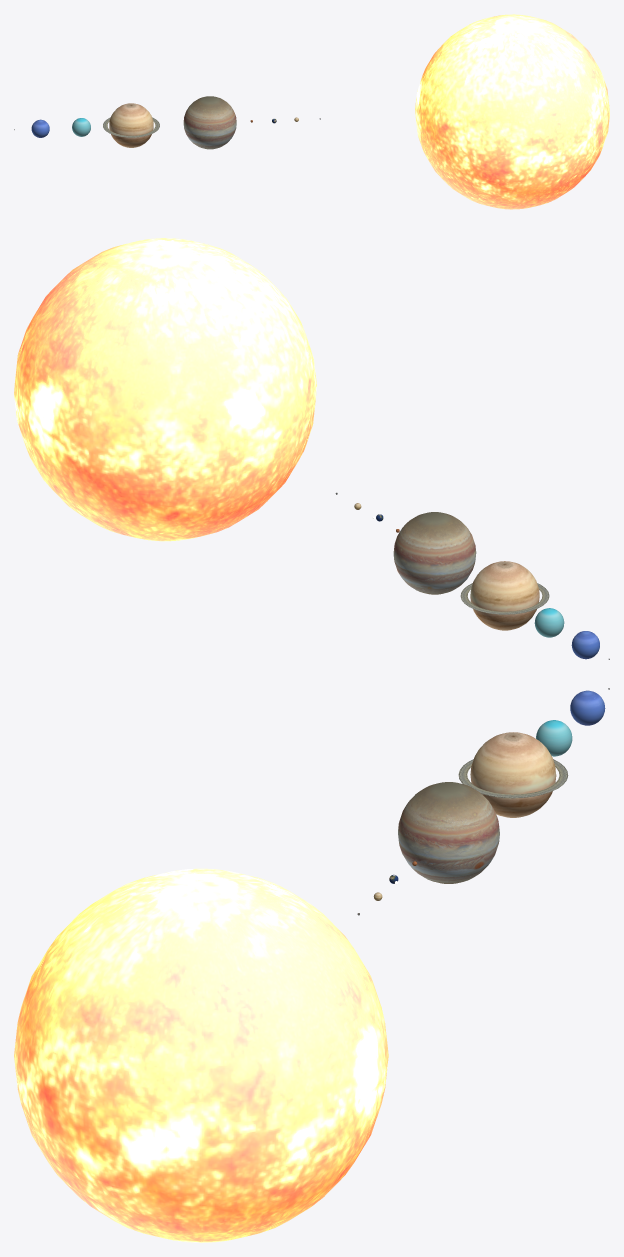
File: tata_surya_rina.glb
3 views of the same model, one above another, from view 1: azimuth 30°, elevation 25°; view 2: azimuth 150°, elevation 25°; view 3: azimuth 270°, elevation 25° (orthographic). The views are drawn at different scales.
Visible parts, largest first — view 1: Sol_3_3, Jupiter.001_15_21, Saturno_18_24, Urano_20_29; view 2: Sol_3_3, Jupiter.001_15_21, Saturno_18_24, Urano_20_29, Neptuno_22_32, object 9; view 3: Sol_3_3, Jupiter.001_15_21, Saturno_18_24, Neptuno_22_32, Urano_20_29, object 9.
Part boxes in pixels (box(x1,y1,x2,y2)): Sol_3_3: box(415, 14, 609, 209); Jupiter.001_15_21: box(183, 96, 236, 149); Saturno_18_24: box(109, 103, 153, 147); Urano_20_29: box(72, 118, 90, 136); Sol_3_3: box(14, 238, 316, 541); Jupiter.001_15_21: box(393, 512, 476, 594); Saturno_18_24: box(470, 561, 539, 630); Urano_20_29: box(534, 608, 564, 637); Neptuno_22_32: box(571, 631, 599, 659); object 9: box(460, 583, 549, 614); Sol_3_3: box(14, 868, 388, 1242); Jupiter.001_15_21: box(398, 782, 499, 883); Saturno_18_24: box(470, 732, 556, 817); Neptuno_22_32: box(570, 690, 605, 725); Urano_20_29: box(536, 720, 572, 756); object 9: box(458, 759, 568, 798).
Size of the model in its own units: 492 by 174 by 277.
12 materials, 10 textured.
